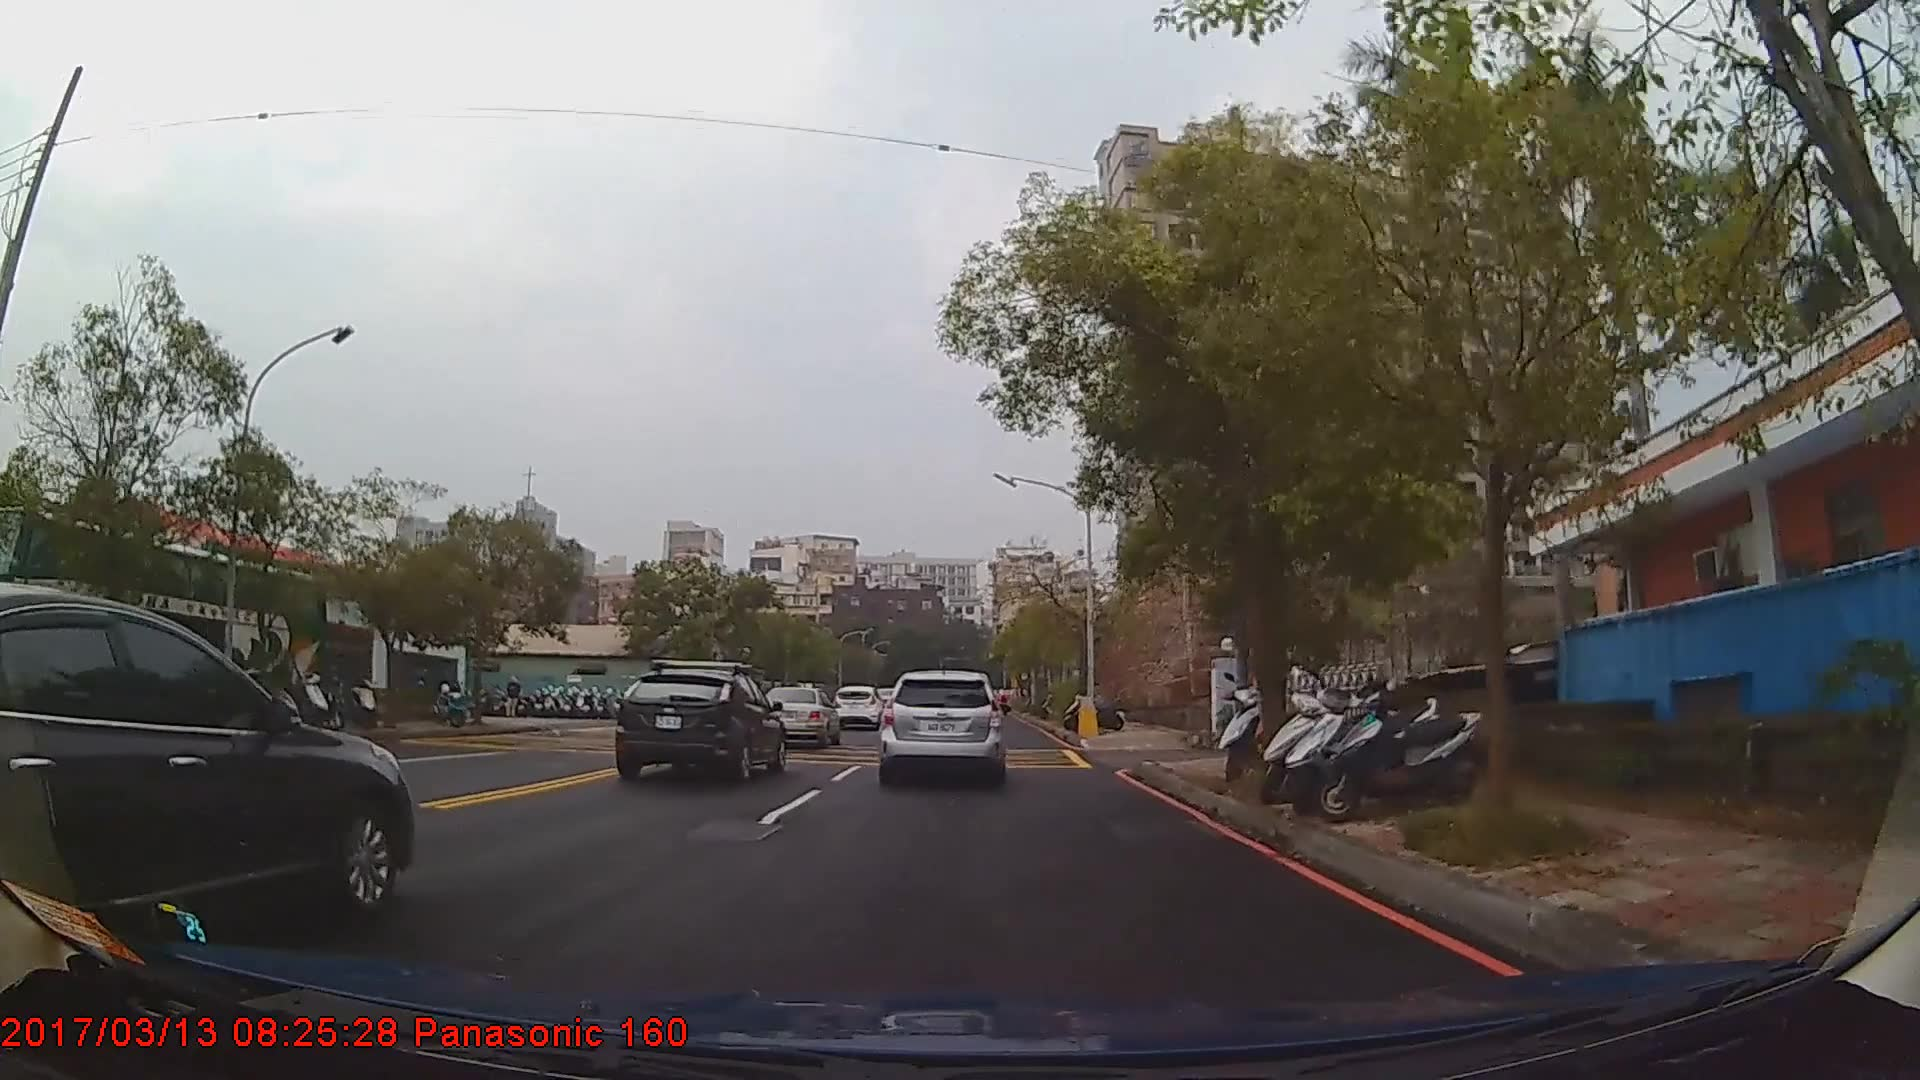vehicle: (0, 582, 413, 959), (0, 505, 320, 741), (611, 667, 785, 786), (880, 669, 1004, 790), (756, 684, 837, 748), (829, 682, 882, 727)
